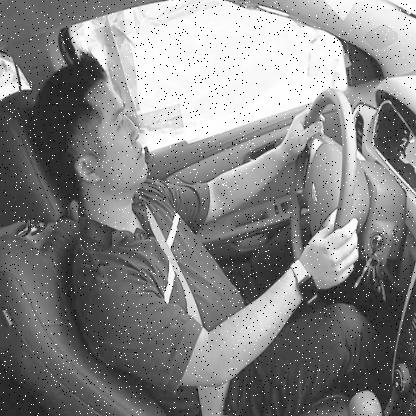seatbelt: (26, 37, 216, 311)
